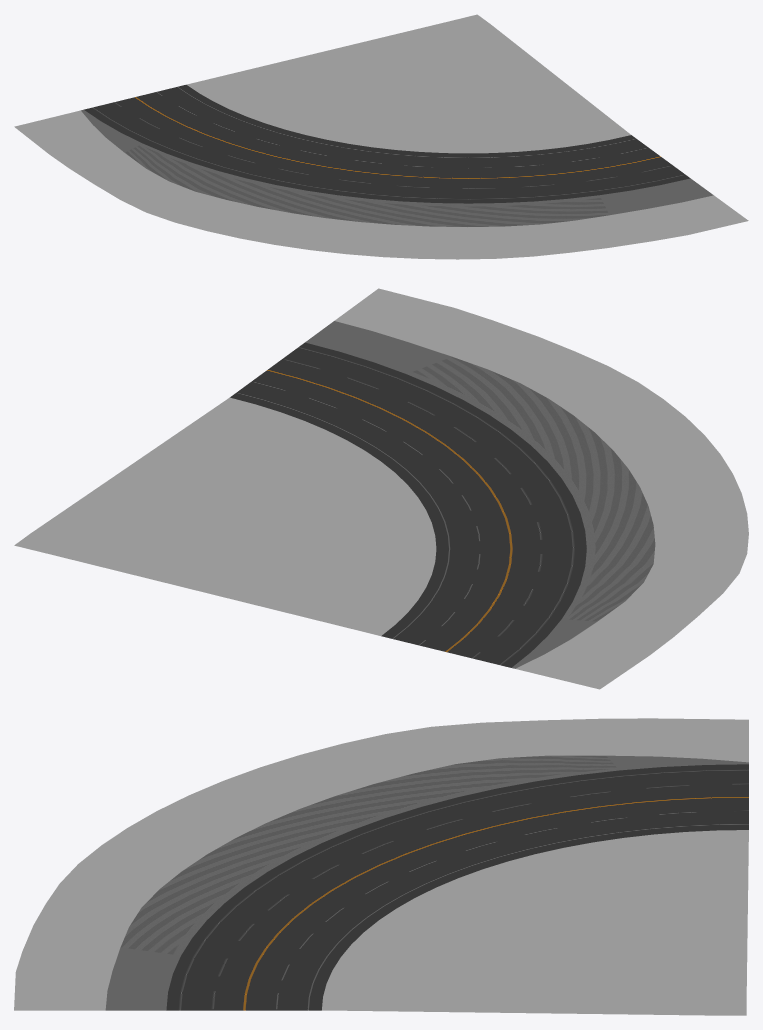
Rendered from Road_turn1_1.fbx.
The picture shows the model from 3 angles, top to bottom: view 1: azimuth 30°, elevation 25°; view 2: azimuth 150°, elevation 25°; view 3: azimuth 270°, elevation 25°; orthographic projection. The views are drawn at different scales.
Visible parts, largest first — view 1: road_turn1_backsideR, polySurface36, road_turn1_backsideL; view 2: road_turn1_backsideR, polySurface36, road_turn1_backsideL; view 3: road_turn1_backsideR, polySurface36, road_turn1_backsideL.
Boxes of the visible parts, left/top/right/bottom form: road_turn1_backsideR: left=81, top=84, right=713, bottom=226; polySurface36: left=187, top=14, right=630, bottom=153; road_turn1_backsideL: left=14, top=110, right=748, bottom=259; road_turn1_backsideR: left=230, top=321, right=655, bottom=668; polySurface36: left=14, top=397, right=436, bottom=635; road_turn1_backsideL: left=334, top=288, right=748, bottom=689; road_turn1_backsideR: left=105, top=755, right=748, bottom=1010; polySurface36: left=322, top=830, right=748, bottom=1015; road_turn1_backsideL: left=14, top=718, right=748, bottom=1010.
Bounding box in the file's own units: 8901 × 0.000122 × 9303.
